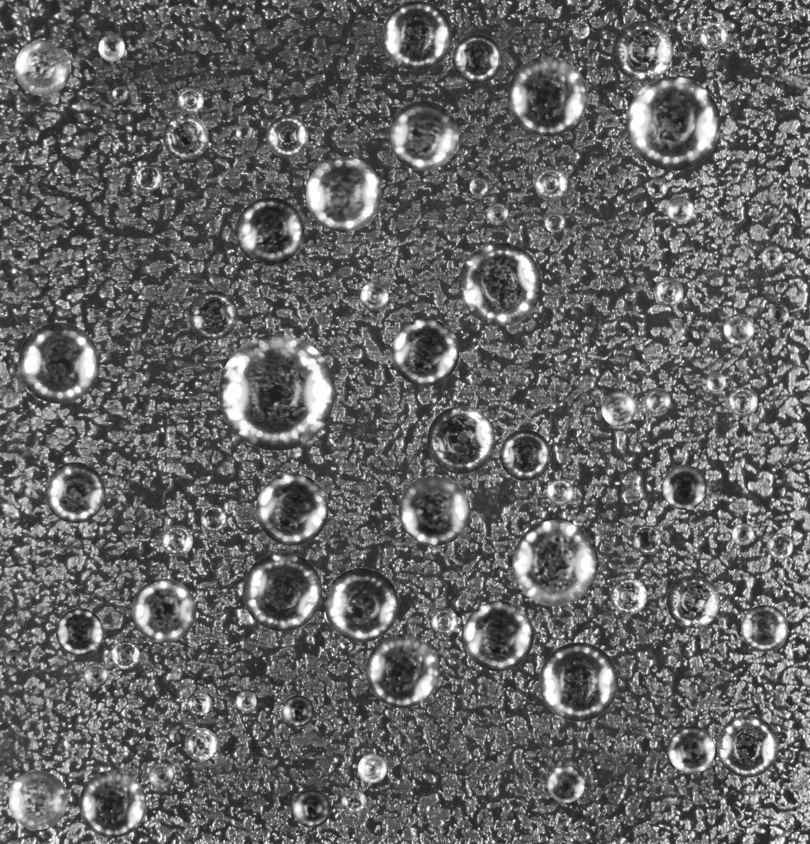Bubble: (218, 334, 335, 450), (626, 76, 720, 170), (512, 520, 598, 606), (458, 242, 542, 325), (18, 322, 99, 403), (242, 551, 322, 631), (507, 56, 587, 136), (539, 642, 618, 721), (306, 156, 381, 232), (365, 634, 439, 708), (324, 568, 398, 642), (256, 473, 328, 545), (399, 474, 470, 545), (463, 600, 533, 671), (382, 0, 452, 70), (388, 100, 458, 170), (235, 197, 304, 265), (391, 318, 459, 386), (427, 406, 495, 474), (79, 770, 146, 837), (131, 578, 196, 642), (716, 715, 779, 777), (44, 462, 105, 523), (612, 20, 672, 81), (8, 770, 67, 829), (14, 39, 71, 95), (666, 574, 720, 628), (499, 429, 551, 480), (452, 33, 502, 83), (188, 290, 237, 340), (55, 608, 103, 656), (667, 726, 715, 773), (741, 604, 788, 651), (163, 114, 208, 159), (662, 465, 707, 509), (266, 115, 308, 157), (292, 789, 330, 827), (547, 765, 585, 802), (610, 578, 646, 614), (601, 391, 636, 426), (534, 167, 567, 200), (184, 728, 217, 760), (282, 695, 314, 727), (723, 313, 754, 344), (162, 525, 192, 555), (654, 277, 683, 307), (357, 754, 387, 783), (699, 21, 728, 50), (728, 387, 757, 416), (632, 525, 661, 554), (111, 640, 139, 669), (360, 282, 388, 310), (666, 196, 694, 224), (547, 478, 574, 505), (98, 34, 125, 61), (766, 532, 793, 559), (135, 164, 162, 190), (644, 388, 671, 414), (431, 608, 457, 635), (148, 762, 174, 788), (200, 506, 226, 532), (177, 87, 203, 113), (341, 788, 366, 814), (186, 691, 211, 715), (83, 663, 108, 687), (731, 523, 754, 545), (486, 203, 508, 225), (761, 245, 783, 267), (768, 303, 789, 324), (235, 691, 256, 712), (544, 212, 565, 232), (706, 372, 726, 392), (647, 178, 667, 197), (469, 177, 488, 196), (4, 649, 22, 667), (572, 21, 589, 38), (236, 124, 253, 141), (112, 86, 128, 102), (676, 19, 691, 34), (782, 224, 791, 233)
